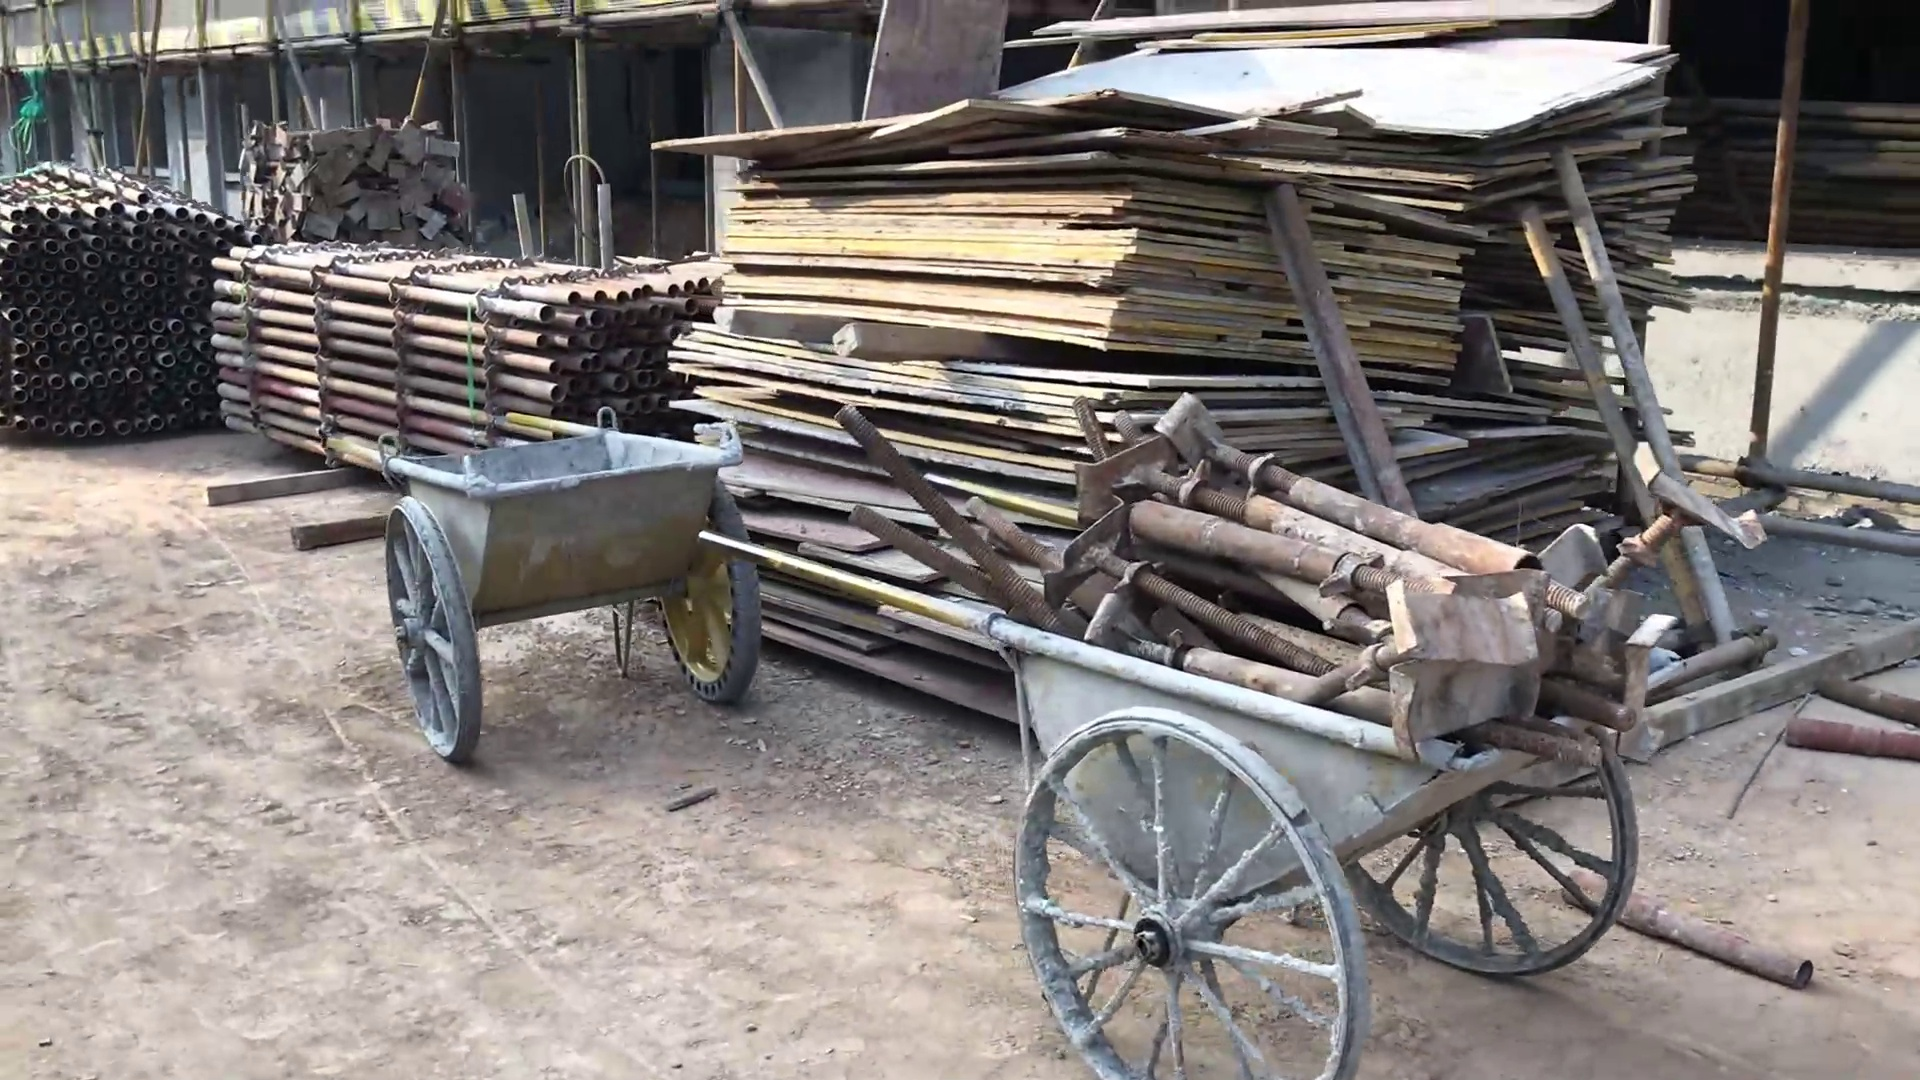board: (674, 4, 1685, 670)
handcart: (698, 471, 1647, 1080), (332, 409, 770, 771)
scaffold: (204, 237, 712, 483), (1, 157, 251, 443)
